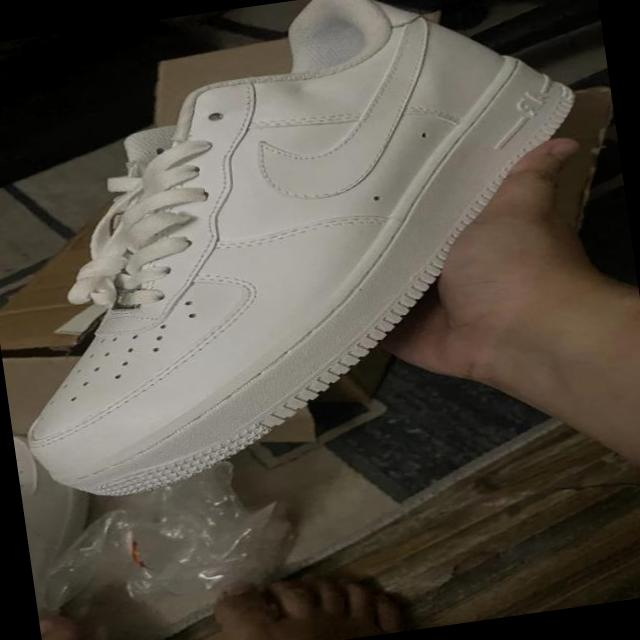nike_original_airforce: (0, 0, 631, 508)
